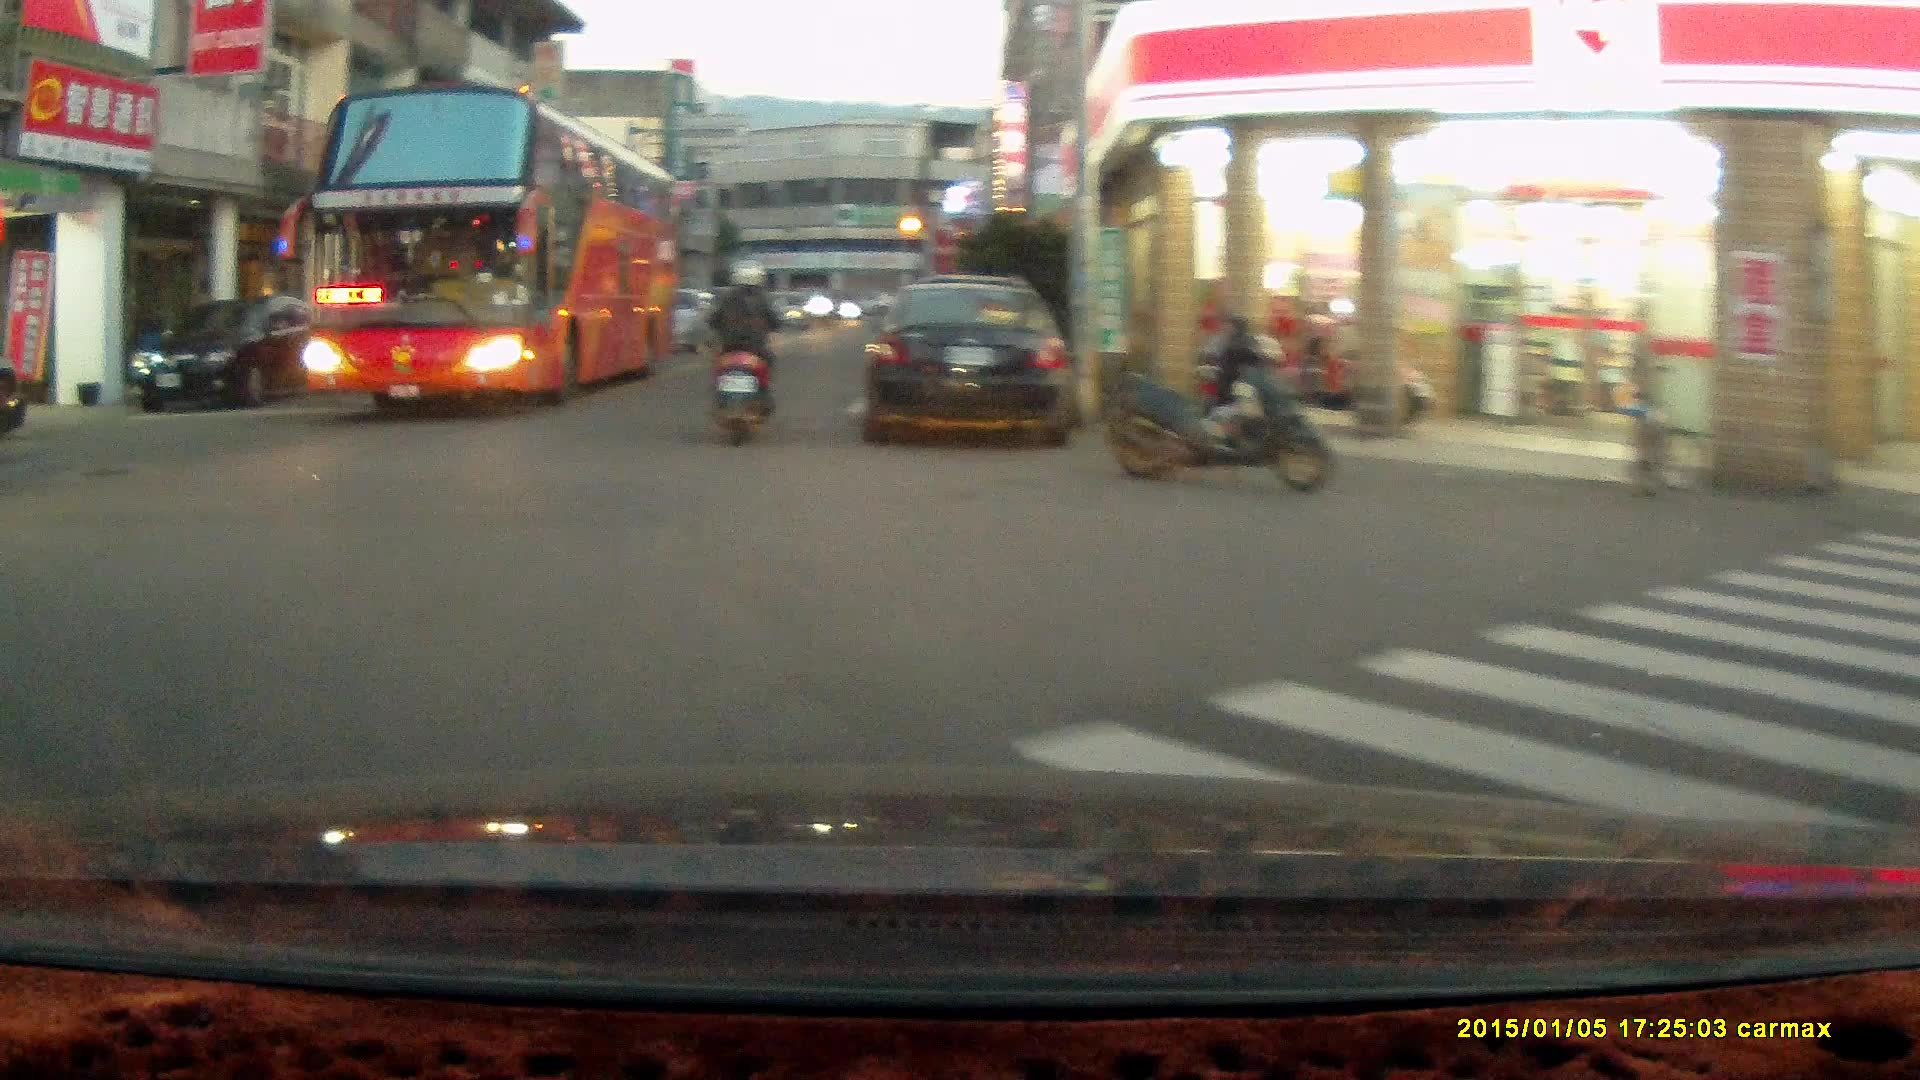rider: (691, 263, 776, 454)
vehicle: (295, 91, 684, 420), (856, 278, 1078, 447), (128, 295, 334, 408)
